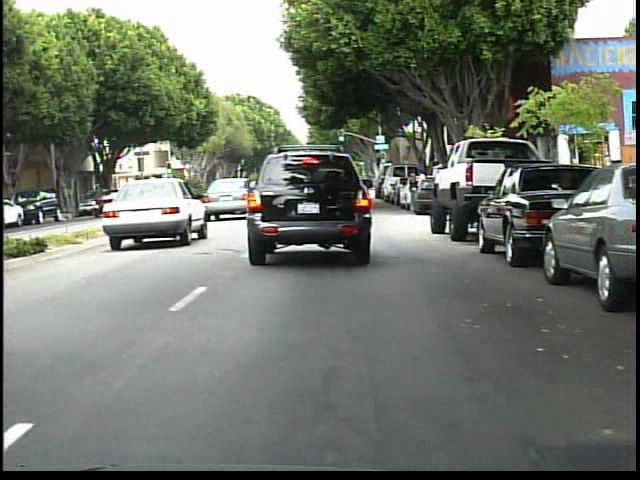person: (414, 167, 430, 207), (407, 169, 420, 218)
